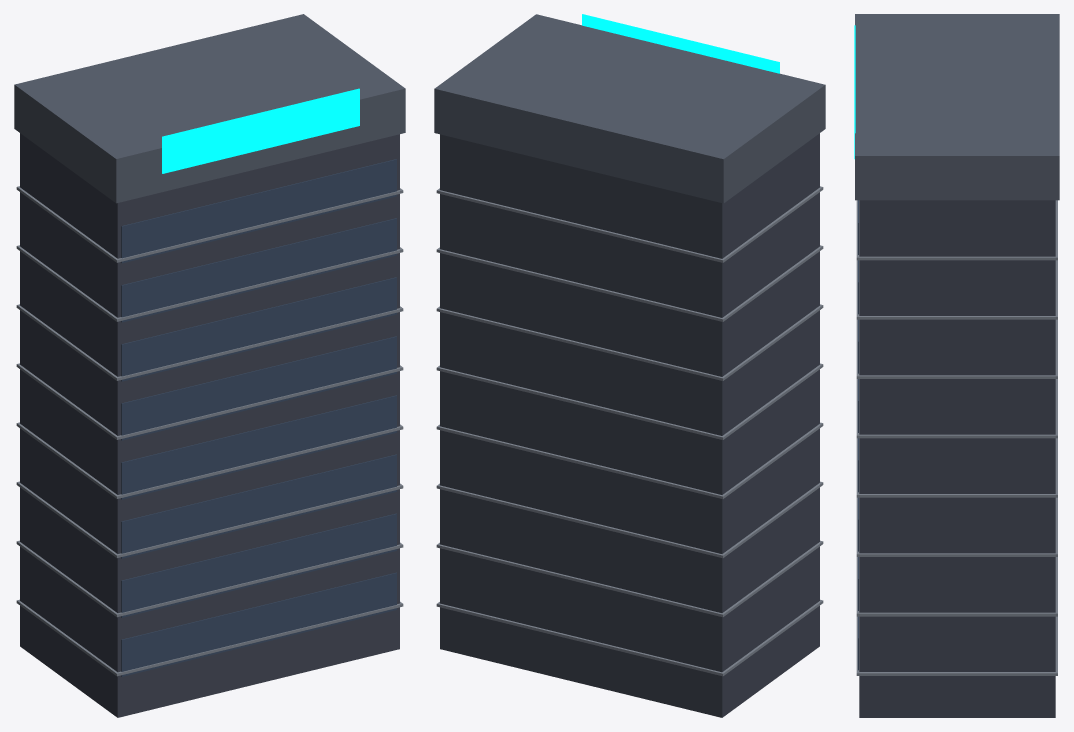
Rendered from CORP_BLD_OfficeBlock_MD.glb.
The picture shows the model from 3 angles, left to right: view 1: azimuth 30°, elevation 25°; view 2: azimuth 150°, elevation 25°; view 3: azimuth 270°, elevation 25°; orthographic projection.
Visible parts, largest first — view 1: CORP_BLD_OfficeBlock_MD; view 2: CORP_BLD_OfficeBlock_MD; view 3: CORP_BLD_OfficeBlock_MD.
Boxes of the visible parts, x1,y1,x2,y2 form: CORP_BLD_OfficeBlock_MD: (14, 14, 405, 717); CORP_BLD_OfficeBlock_MD: (434, 14, 825, 717); CORP_BLD_OfficeBlock_MD: (854, 14, 1059, 717).
Size of the model in its own units: 20.5 by 38.75 by 12.55.
